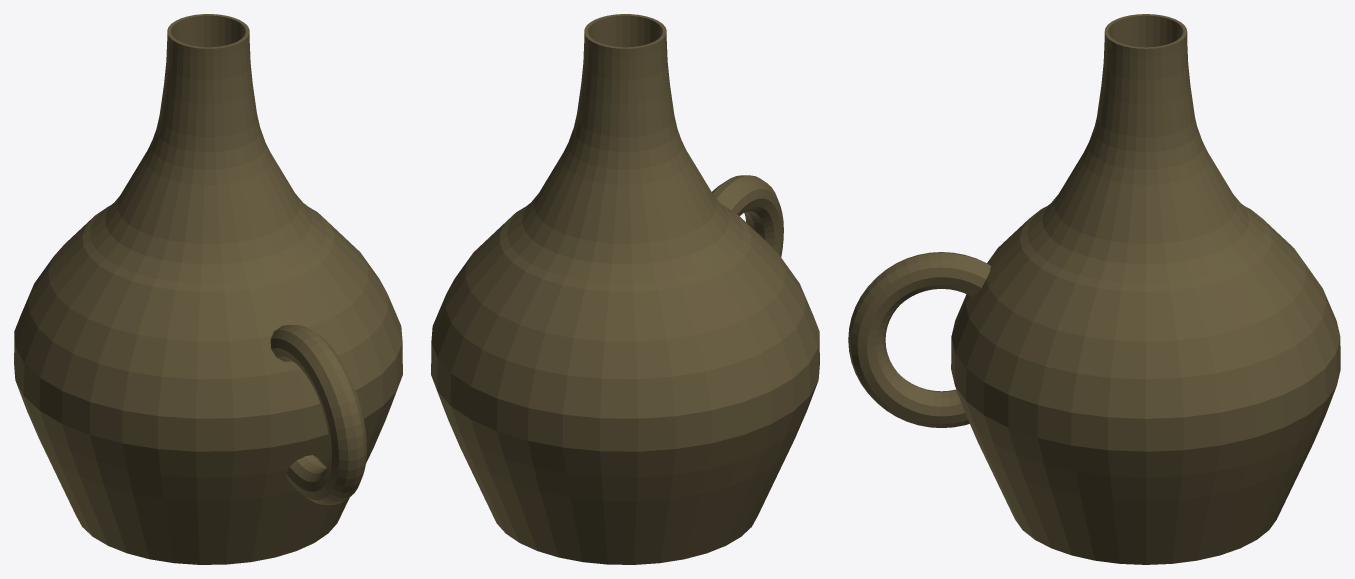
File: Jug (1).fbx
The picture shows the model from 3 angles, left to right: view 1: azimuth 30°, elevation 25°; view 2: azimuth 150°, elevation 25°; view 3: azimuth 270°, elevation 25°; orthographic projection.
Parts seen in each view (by area): view 1: Cylinder; view 2: Cylinder; view 3: Cylinder.
Boxes of the visible parts, x1,y1,x2,y2 form: Cylinder: (14, 14, 402, 564); Cylinder: (431, 14, 819, 564); Cylinder: (848, 14, 1340, 564).
Size of the model in its own units: 292 by 395 by 369.
